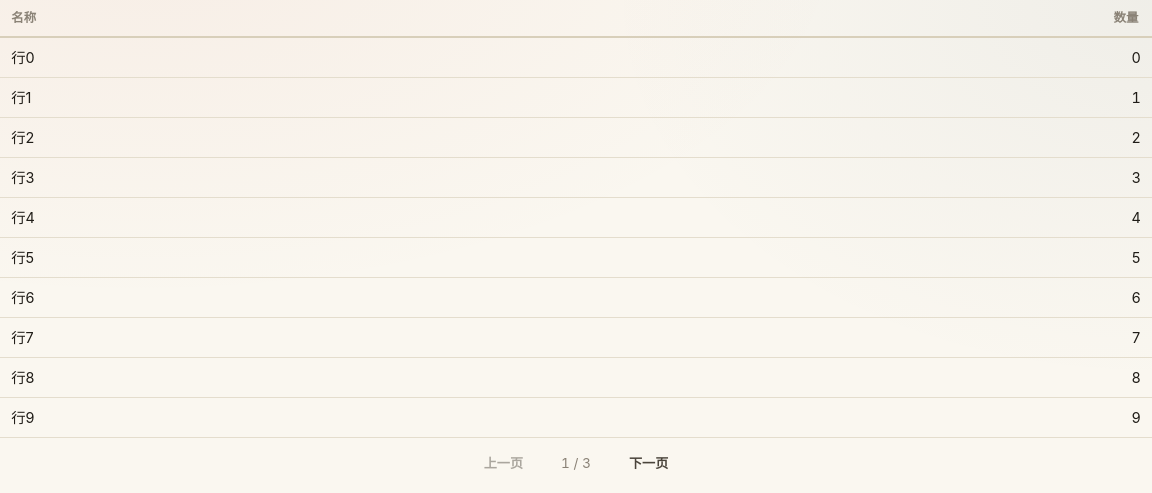
Test: DataTable › 分页：pageSize 控制每页行数 + 翻页
Expected: the text "1 / 3" is shown, [561, 455, 591, 471]
Click the button "下一页": click(649, 464) [616, 450, 681, 477]
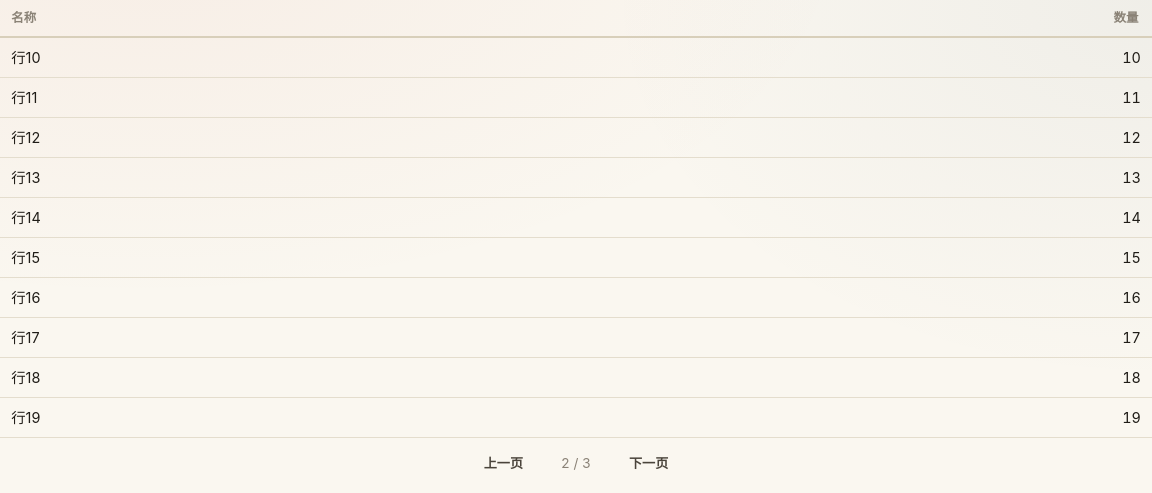
Expected: the text "2 / 3" is shown, [561, 455, 591, 471]
